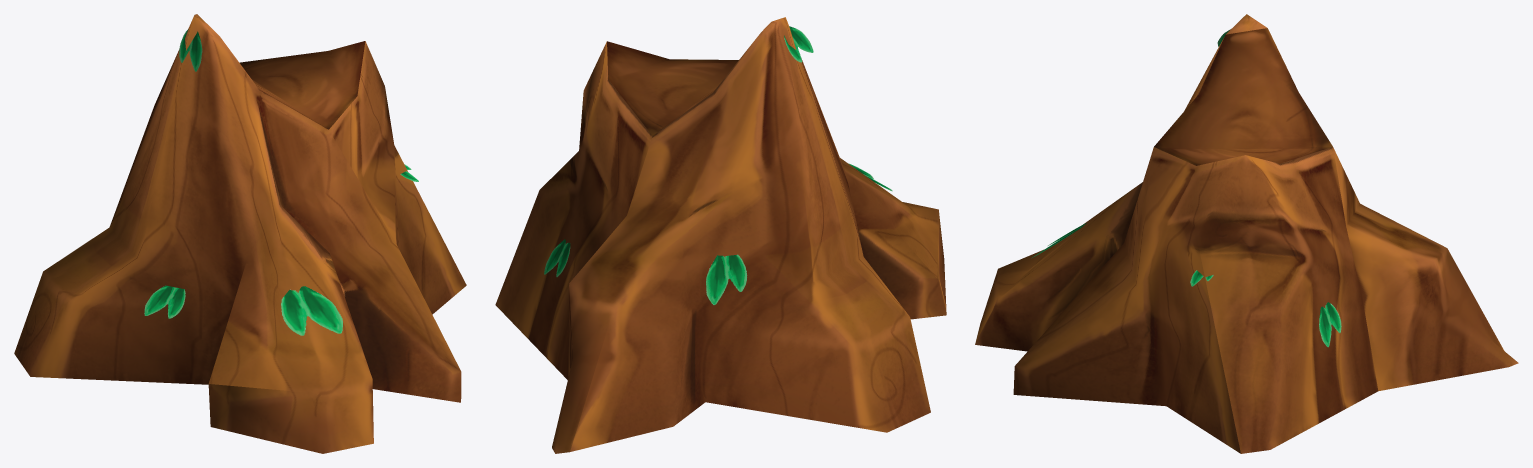
Rendered from 10_Tronco_Verde_Oscuro_LOD_1.fbx.
The picture shows the model from 3 angles, left to right: view 1: azimuth 30°, elevation 25°; view 2: azimuth 150°, elevation 25°; view 3: azimuth 270°, elevation 25°; orthographic projection. The views are drawn at different scales.
Visible parts, largest first — view 1: 10_Tronco_Verde_Oscuro_LOD_1; view 2: 10_Tronco_Verde_Oscuro_LOD_1; view 3: 10_Tronco_Verde_Oscuro_LOD_1.
Part boxes in pixels (bbox=[...]): 10_Tronco_Verde_Oscuro_LOD_1: bbox=[14, 14, 466, 453]; 10_Tronco_Verde_Oscuro_LOD_1: bbox=[495, 17, 946, 453]; 10_Tronco_Verde_Oscuro_LOD_1: bbox=[975, 14, 1518, 453].
Size of the model in its own units: 191 by 145 by 226.
